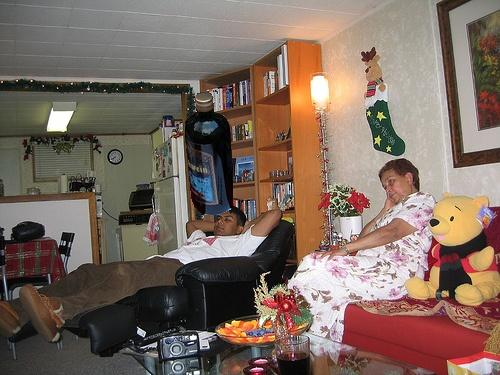tampered: (186, 93, 233, 215)
